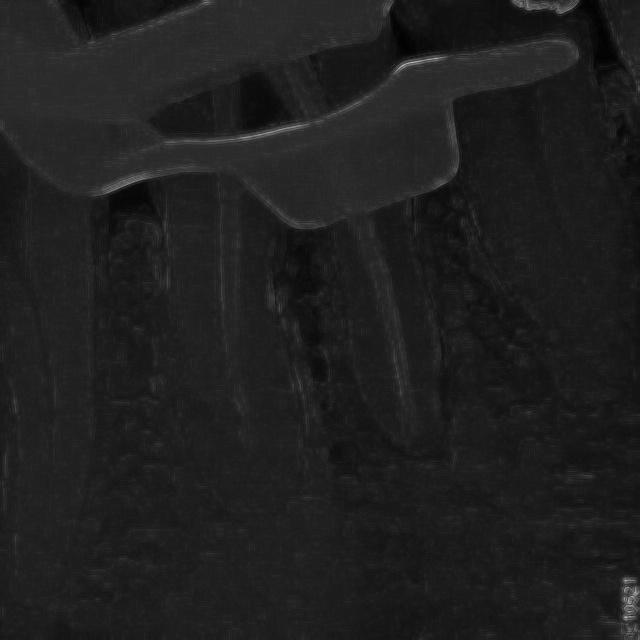Class 1- complete endodontic treatment: (84, 17, 518, 560)
